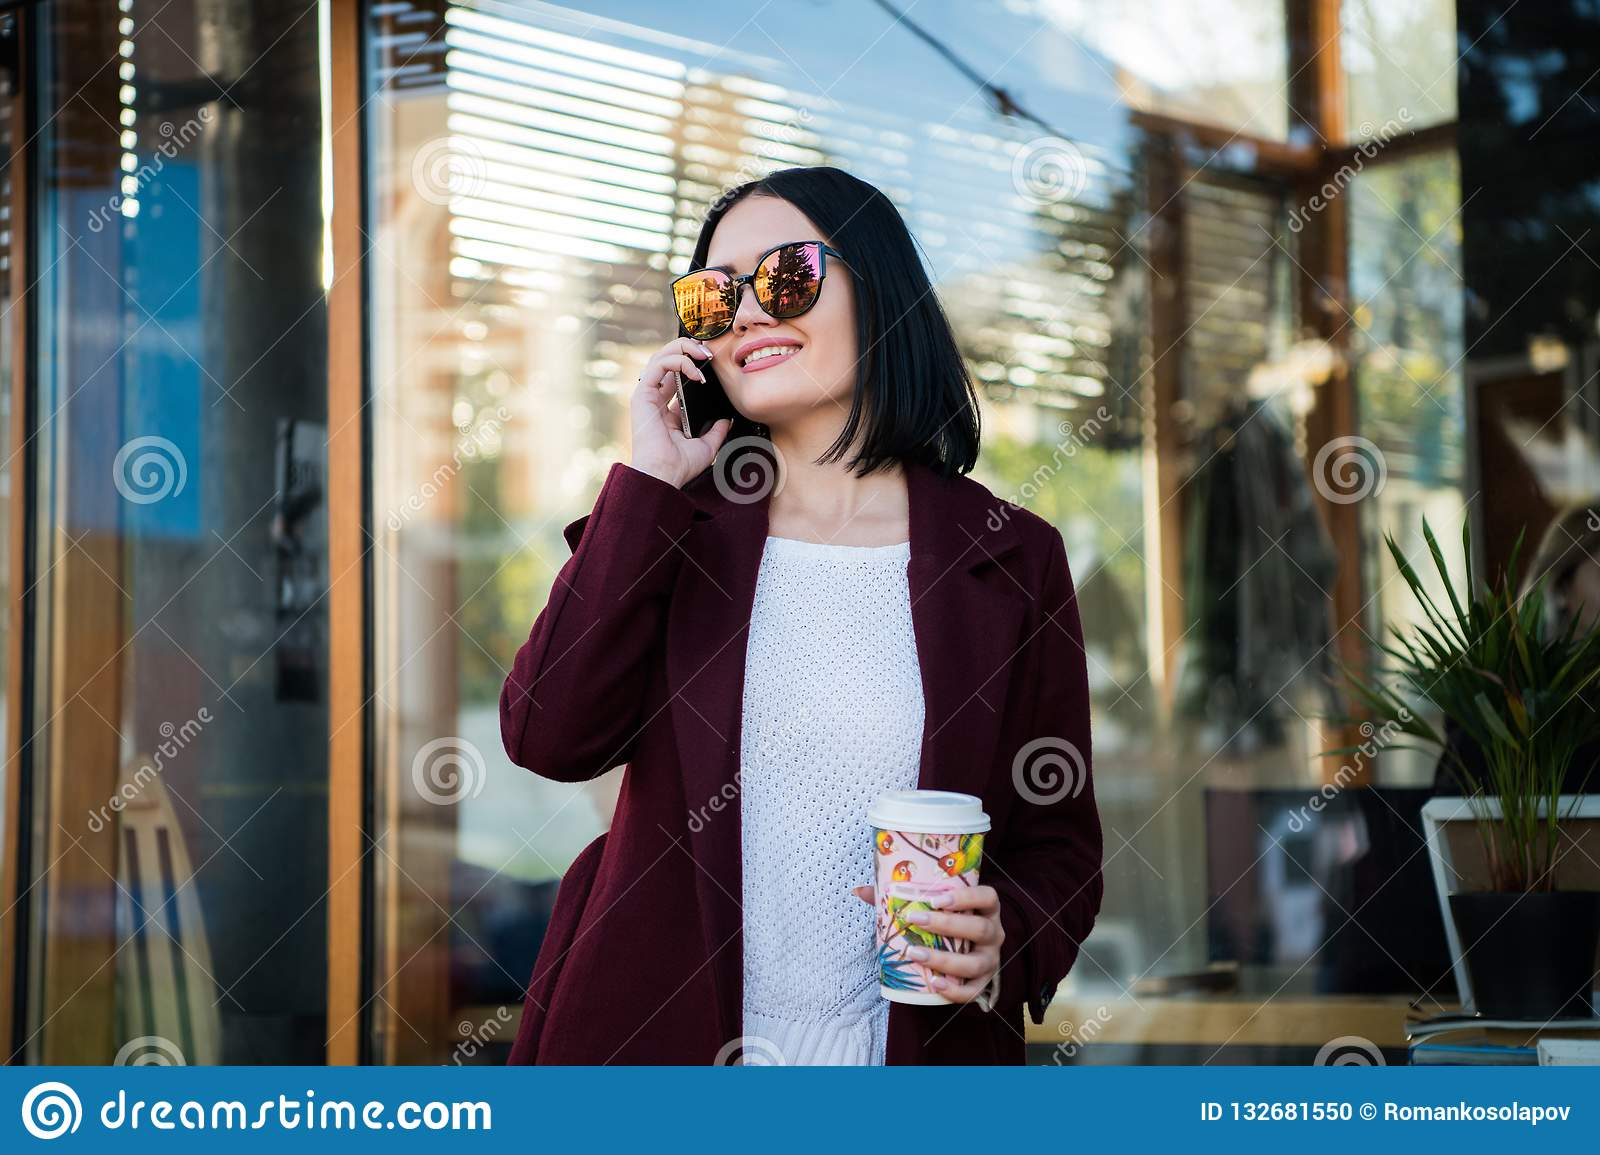phone: (670, 337, 735, 447)
talk: (626, 241, 841, 483)
